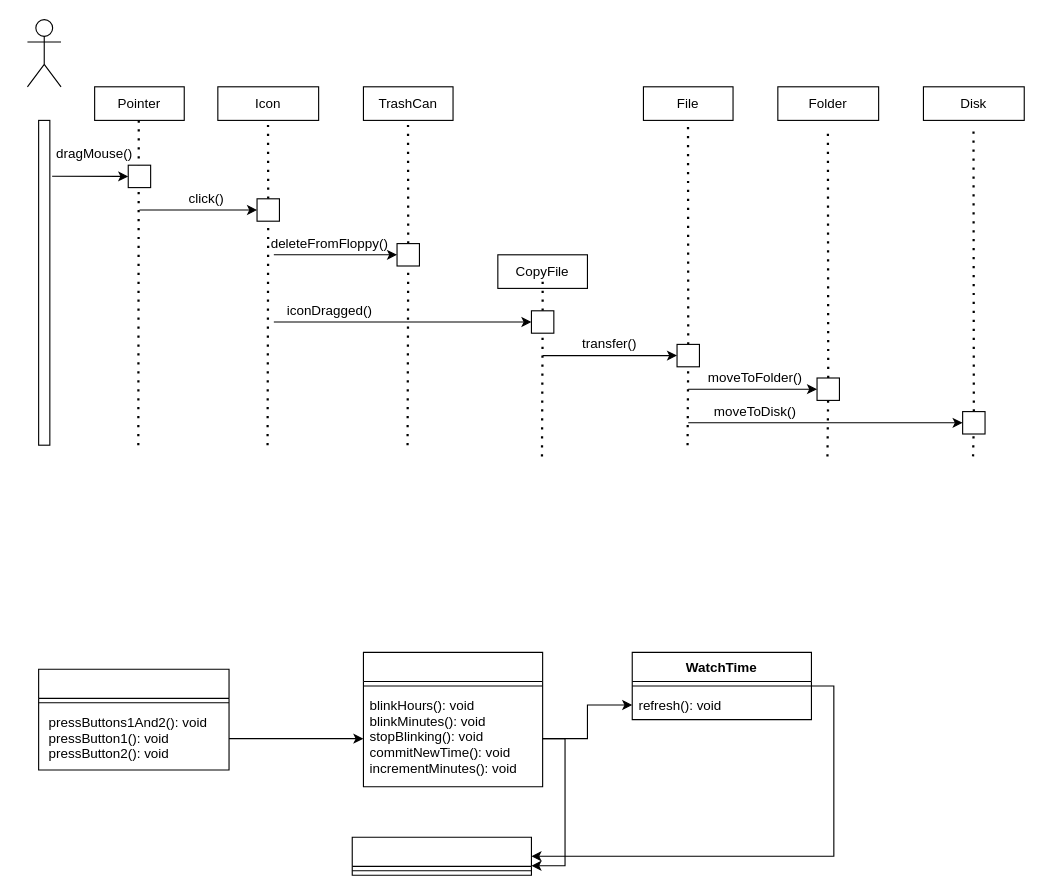
This 1044x895 diagram has some shape labels left out. Each missing label, with the box of its shape:
PC-user: (26, 18, 61, 87)
WatchDisplay: (351, 836, 531, 875)
WatchInput: (362, 651, 543, 787)
WatchOwner: (38, 668, 229, 770)
